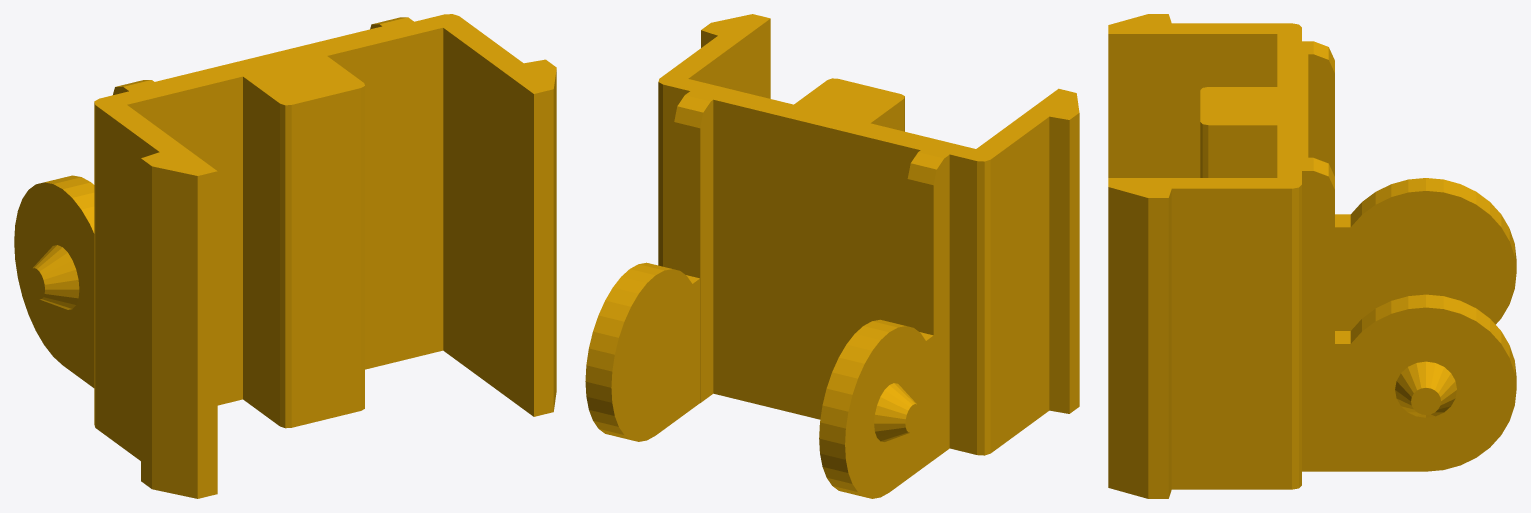
The model's file is cableChain_40MountTop_v2-45.glb.
3 renders of one model, left to right at view 1: azimuth 30°, elevation 25°; view 2: azimuth 150°, elevation 25°; view 3: azimuth 270°, elevation 25°, orthographic. The views are drawn at different scales.
Size of the model in its own units: 28.86 by 22 by 27.05.
